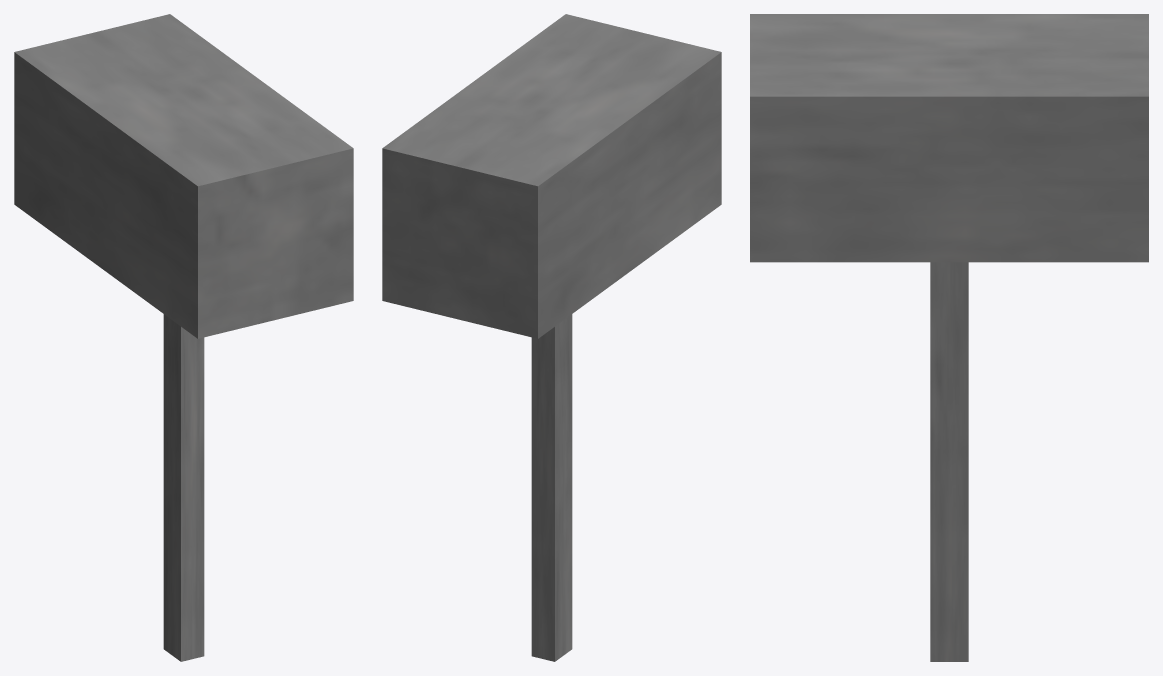
File: Hammer.fbx
The picture shows the model from 3 angles, left to right: view 1: azimuth 30°, elevation 25°; view 2: azimuth 150°, elevation 25°; view 3: azimuth 270°, elevation 25°; orthographic projection. The views are drawn at different scales.
Visible parts, largest first — view 1: Cube.001, Cube; view 2: Cube.001, Cube; view 3: Cube.001, Cube.
Part boxes in pixels (left/top/right/bottom): Cube.001: left=14, top=14, right=353, bottom=338; Cube: left=163, top=314, right=204, bottom=661; Cube.001: left=382, top=14, right=721, bottom=338; Cube: left=531, top=314, right=572, bottom=661; Cube.001: left=750, top=14, right=1148, bottom=262; Cube: left=930, top=262, right=968, bottom=661.
Size of the model in its own units: 10.81 by 36.62 by 22.05.
2 materials, 2 textured.
